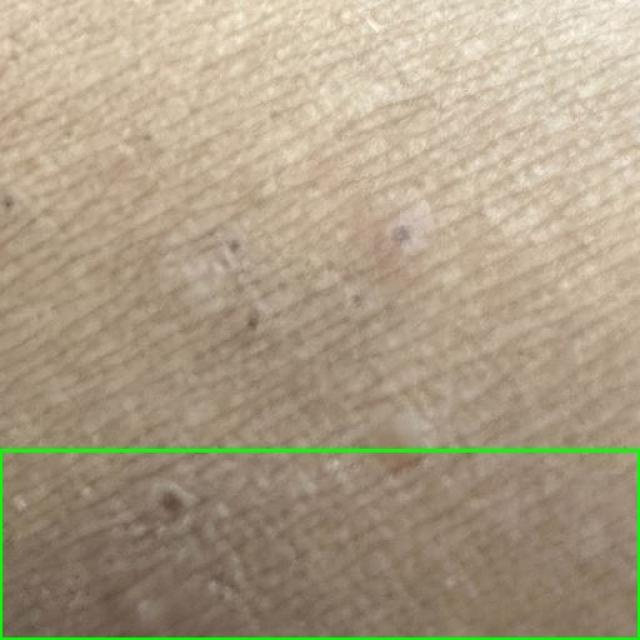Scabies: (0, 450, 639, 639)
